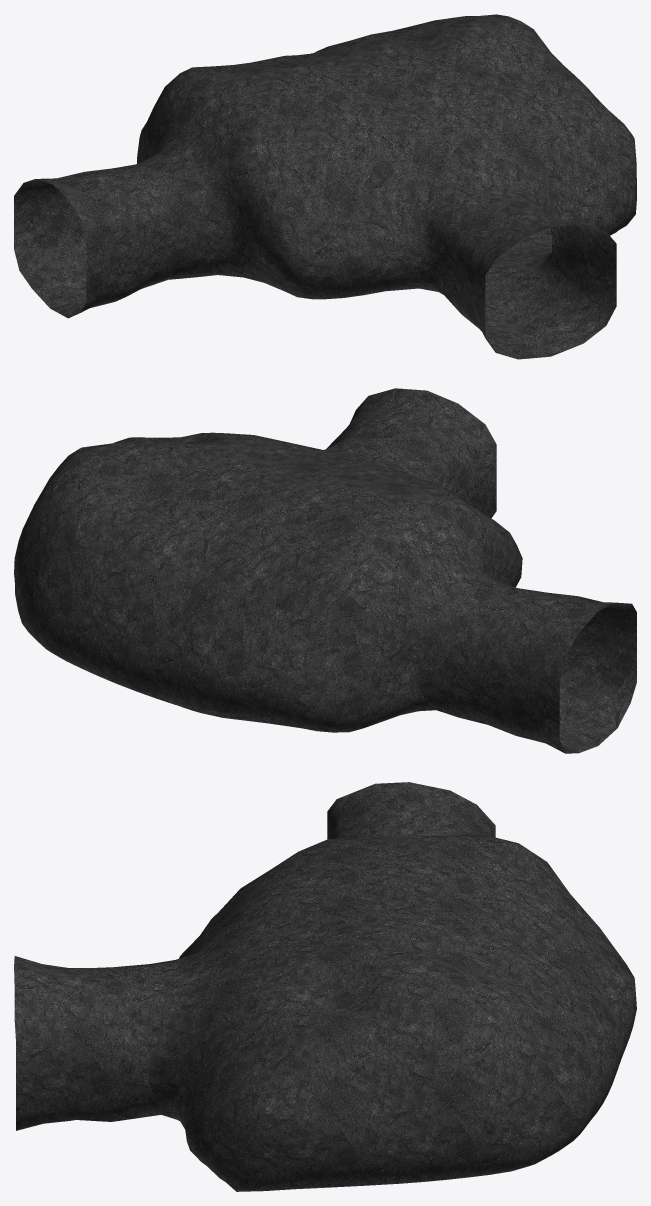
The model's file is room2doorL.glb.
3 renders of one model, top to bottom at view 1: azimuth 30°, elevation 25°; view 2: azimuth 150°, elevation 25°; view 3: azimuth 270°, elevation 25°, orthographic. The views are drawn at different scales.
Parts seen in each view (by area): view 1: Cube.146; view 2: Cube.146; view 3: Cube.146.
Part boxes in pixels (left/top/right/bottom): Cube.146: left=14, top=14, right=636, bottom=359; Cube.146: left=14, top=388, right=636, bottom=753; Cube.146: left=14, top=782, right=636, bottom=1191.
Bounding box in the file's own units: 30.51 × 9.82 × 26.82.
Materials: 1 (1 with a texture image).
